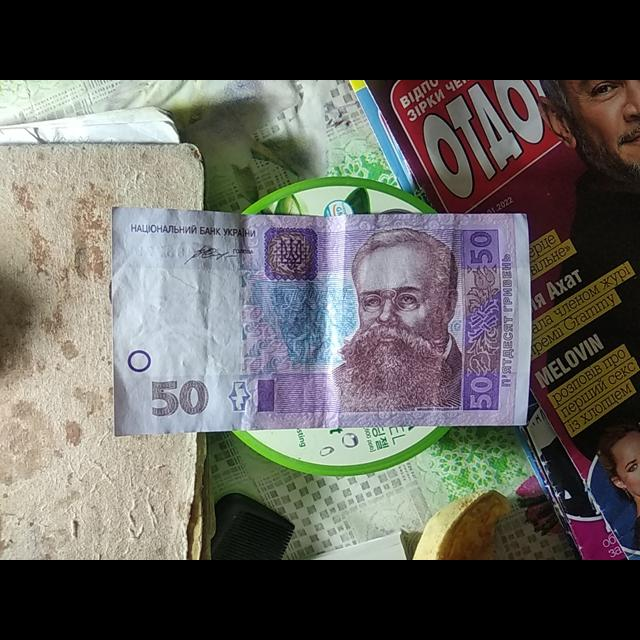50uah: (112, 206, 532, 434)
